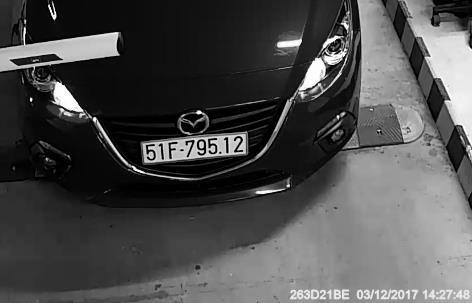License-plate: (139, 125, 254, 175)
